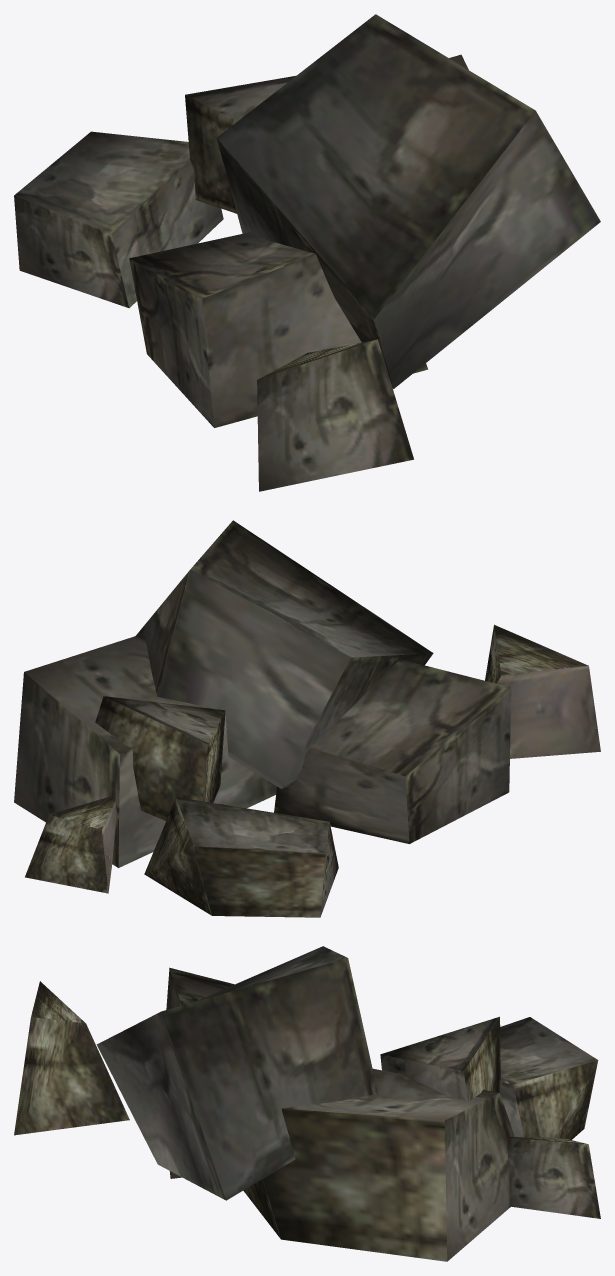
Rendered from S_Build_Muxue035.FBX.
3 renders of one model, top to bottom at view 1: azimuth 30°, elevation 25°; view 2: azimuth 150°, elevation 25°; view 3: azimuth 270°, elevation 25°, orthographic. The views are drawn at different scales.
Parts seen in each view (by area): view 1: S_Build_Muxue035; view 2: S_Build_Muxue035; view 3: S_Build_Muxue035.
Boxes of the visible parts, left/top/right/bottom form: S_Build_Muxue035: left=14, top=14, right=600, bottom=491; S_Build_Muxue035: left=14, top=520, right=600, bottom=917; S_Build_Muxue035: left=14, top=946, right=600, bottom=1261.
Bounding box in the file's own units: 219 × 275 × 127.
